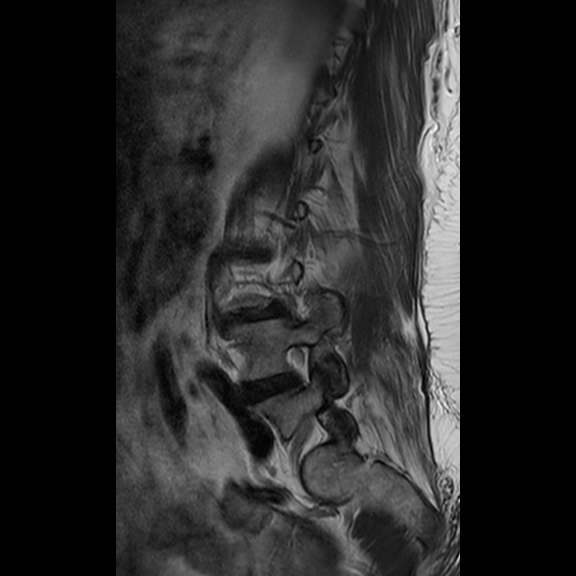LFS0: (273, 332, 326, 396)
